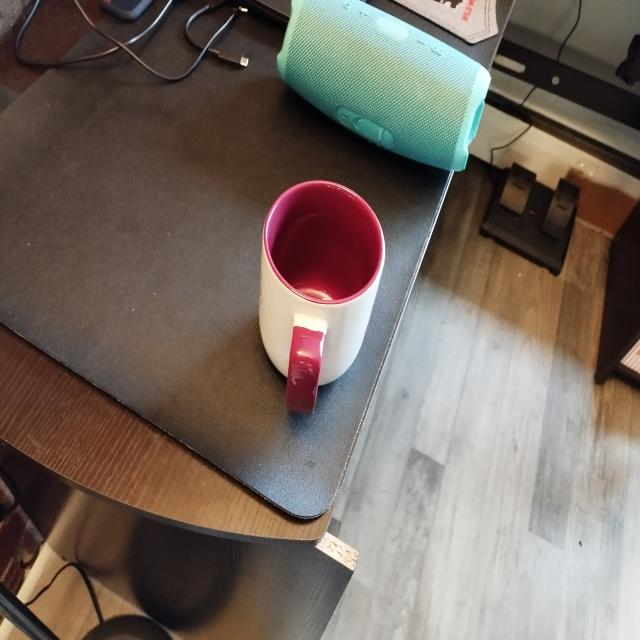Cup: (232, 172, 400, 464)
